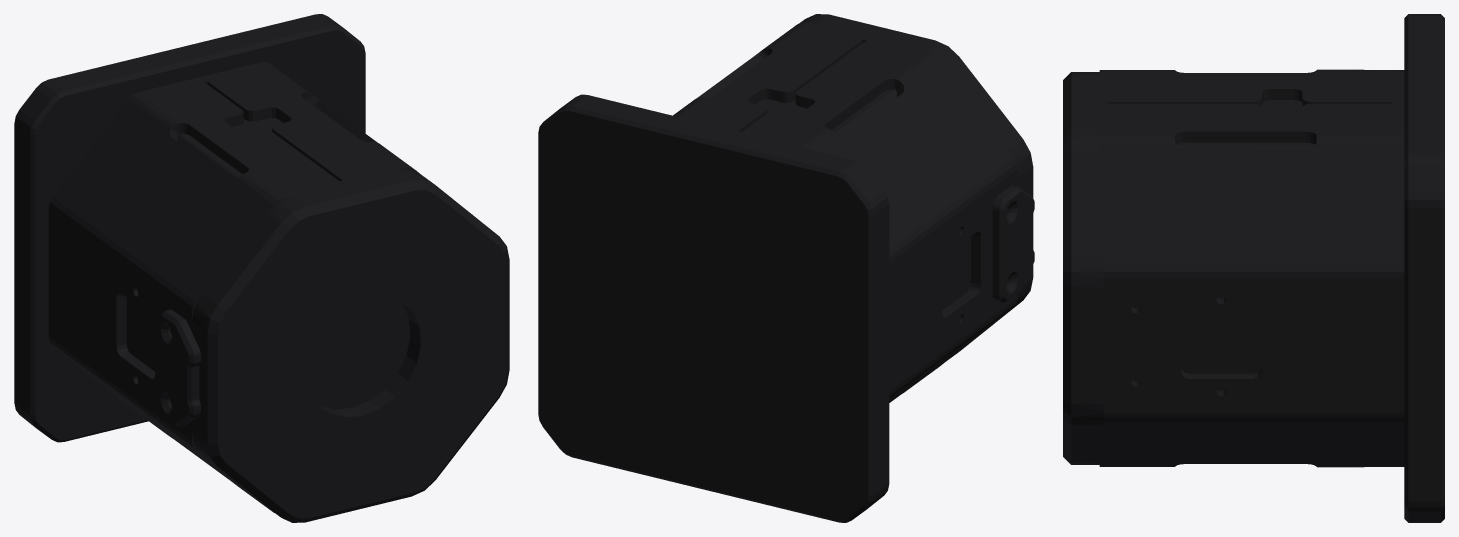
Rendered from base_link__dark.glb.
3 views of the same model, side by side, from view 1: azimuth 30°, elevation 25°; view 2: azimuth 150°, elevation 25°; view 3: azimuth 270°, elevation 25° (orthographic). The views are drawn at different scales.
Parts seen in each view (by area): view 1: base_link.STL; view 2: base_link.STL; view 3: base_link.STL.
Part boxes in pixels (bbox=[...]): base_link.STL: bbox=[14, 14, 509, 522]; base_link.STL: bbox=[538, 14, 1034, 522]; base_link.STL: bbox=[1063, 14, 1444, 522].
Bounding box in the file's own units: 0.1 × 0.1 × 0.094.
1 material, 1 textured.
